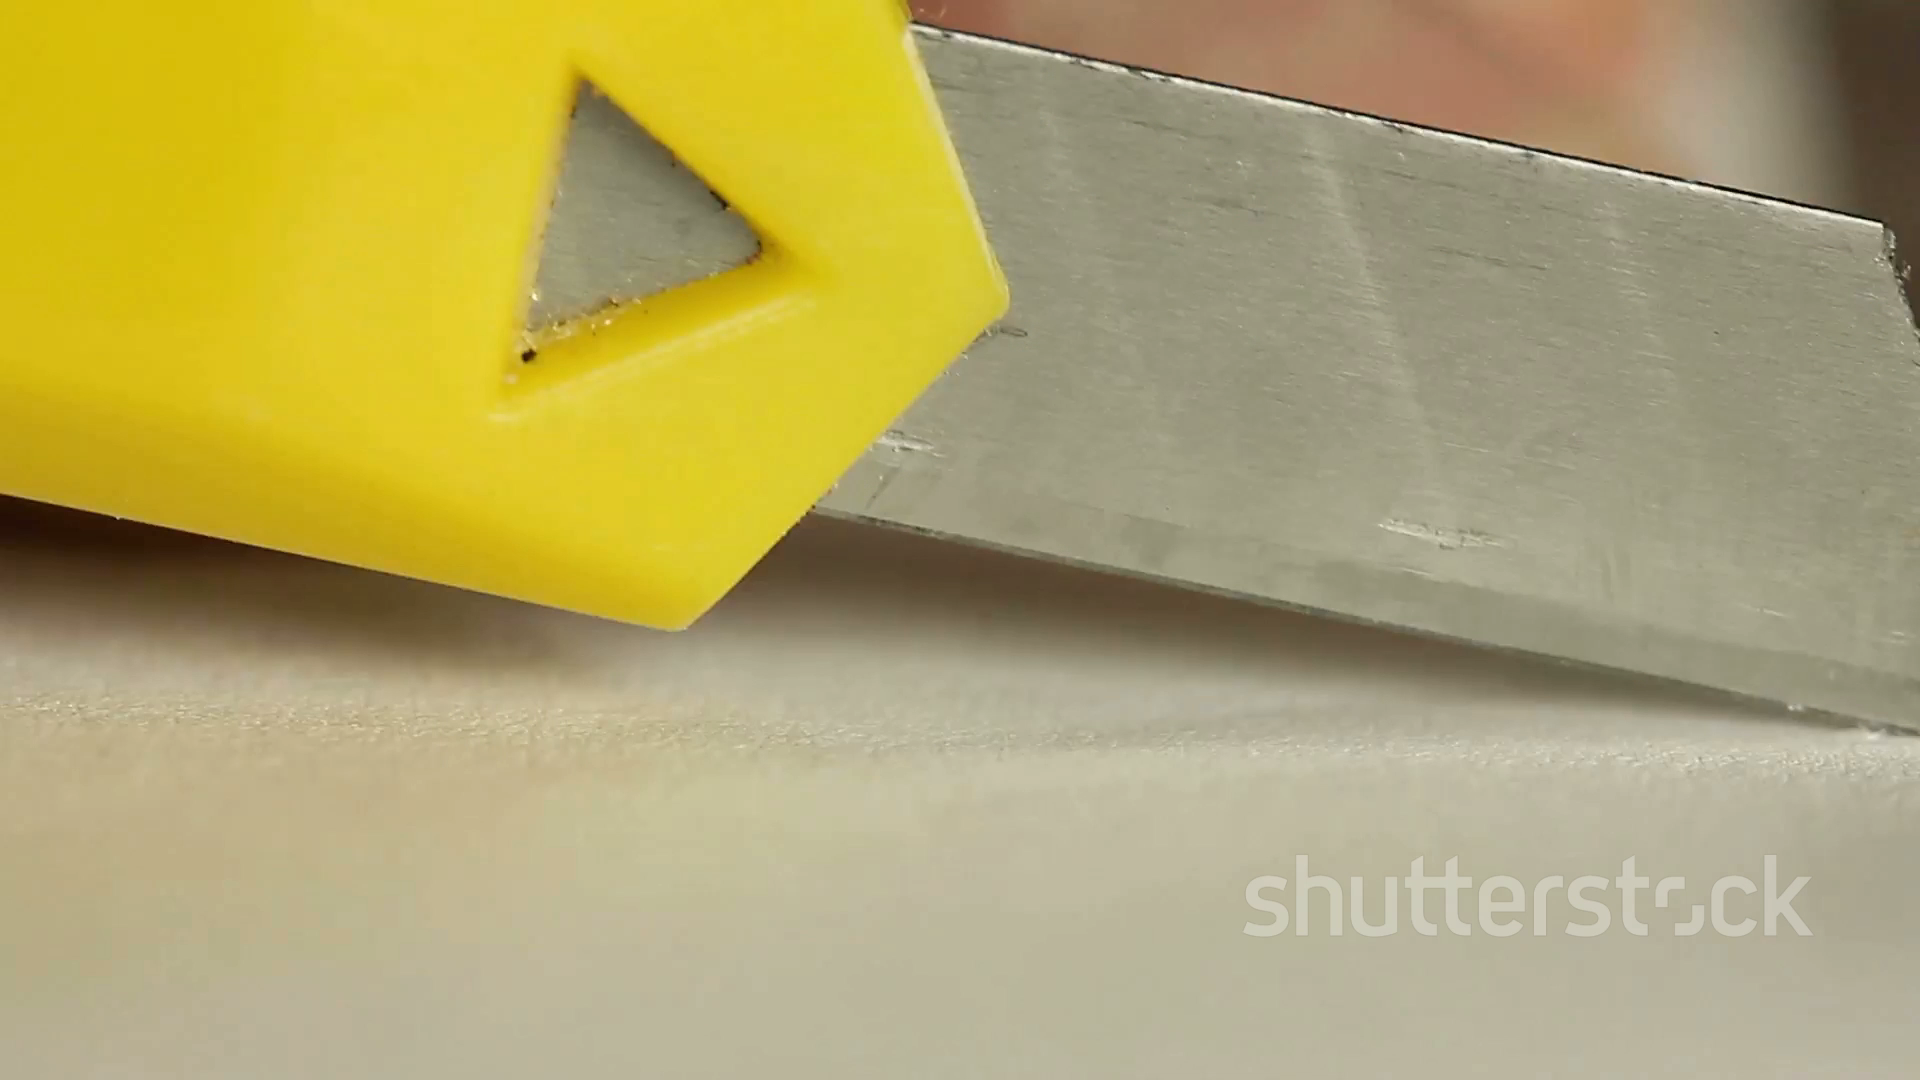cortante: (804, 20, 1920, 735)
